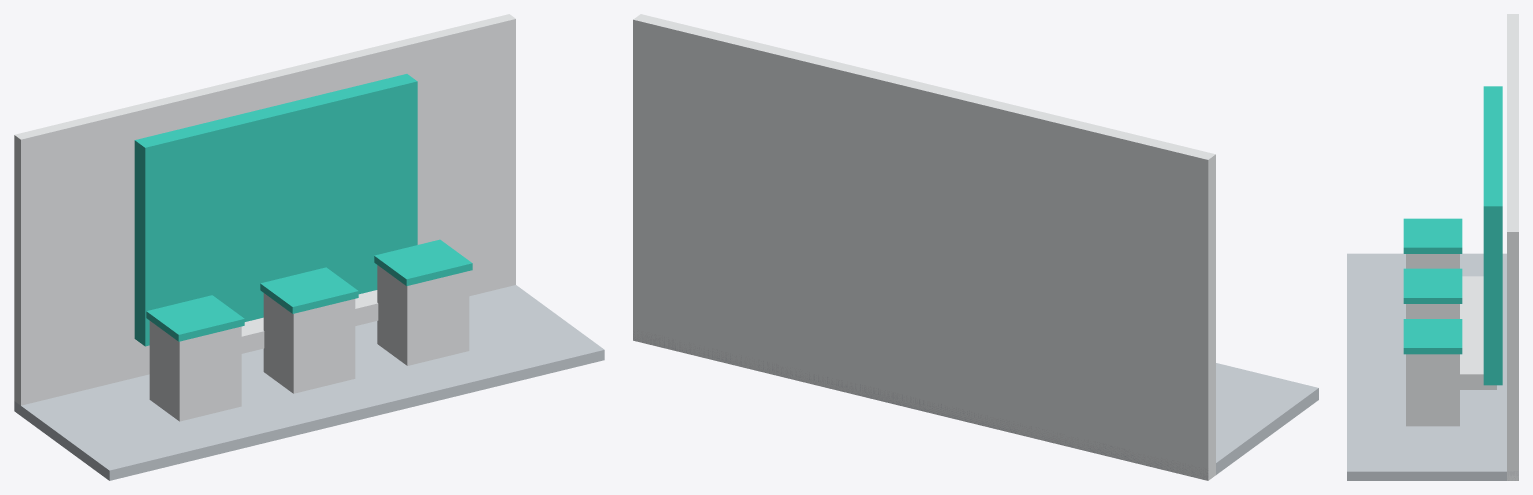
The picture shows the model from 3 angles, left to right: view 1: azimuth 30°, elevation 25°; view 2: azimuth 150°, elevation 25°; view 3: azimuth 270°, elevation 25°; orthographic projection. The views are drawn at different scales.
Parts seen in each view (by area): view 1: Exhibition Booth Concept; view 2: Exhibition Booth Concept; view 3: Exhibition Booth Concept.
Part boxes in pixels (left/top/right/bottom): Exhibition Booth Concept: left=14, top=14, right=604, bottom=480; Exhibition Booth Concept: left=633, top=14, right=1318, bottom=480; Exhibition Booth Concept: left=1347, top=14, right=1518, bottom=480.
Size of the model in its own units: 6 by 3.2 by 2.
